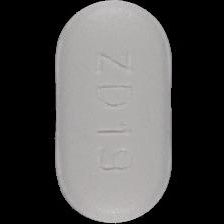63629-3344: (0, 0, 224, 224)
